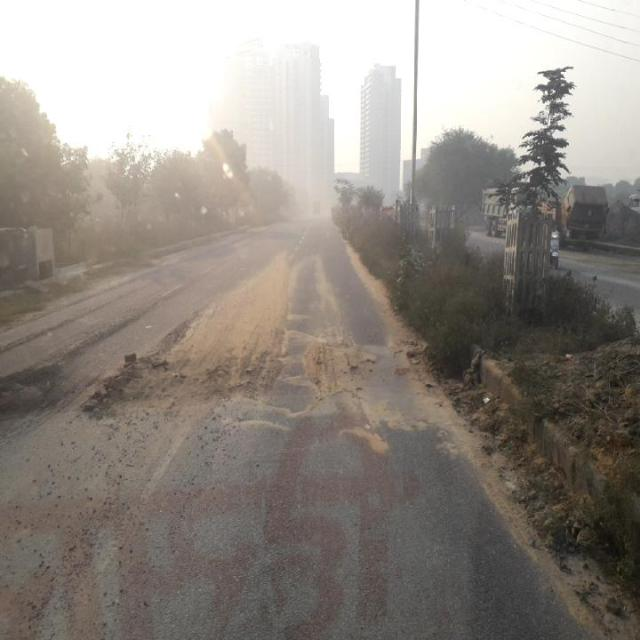Surface Erosion: (70, 223, 433, 572)
